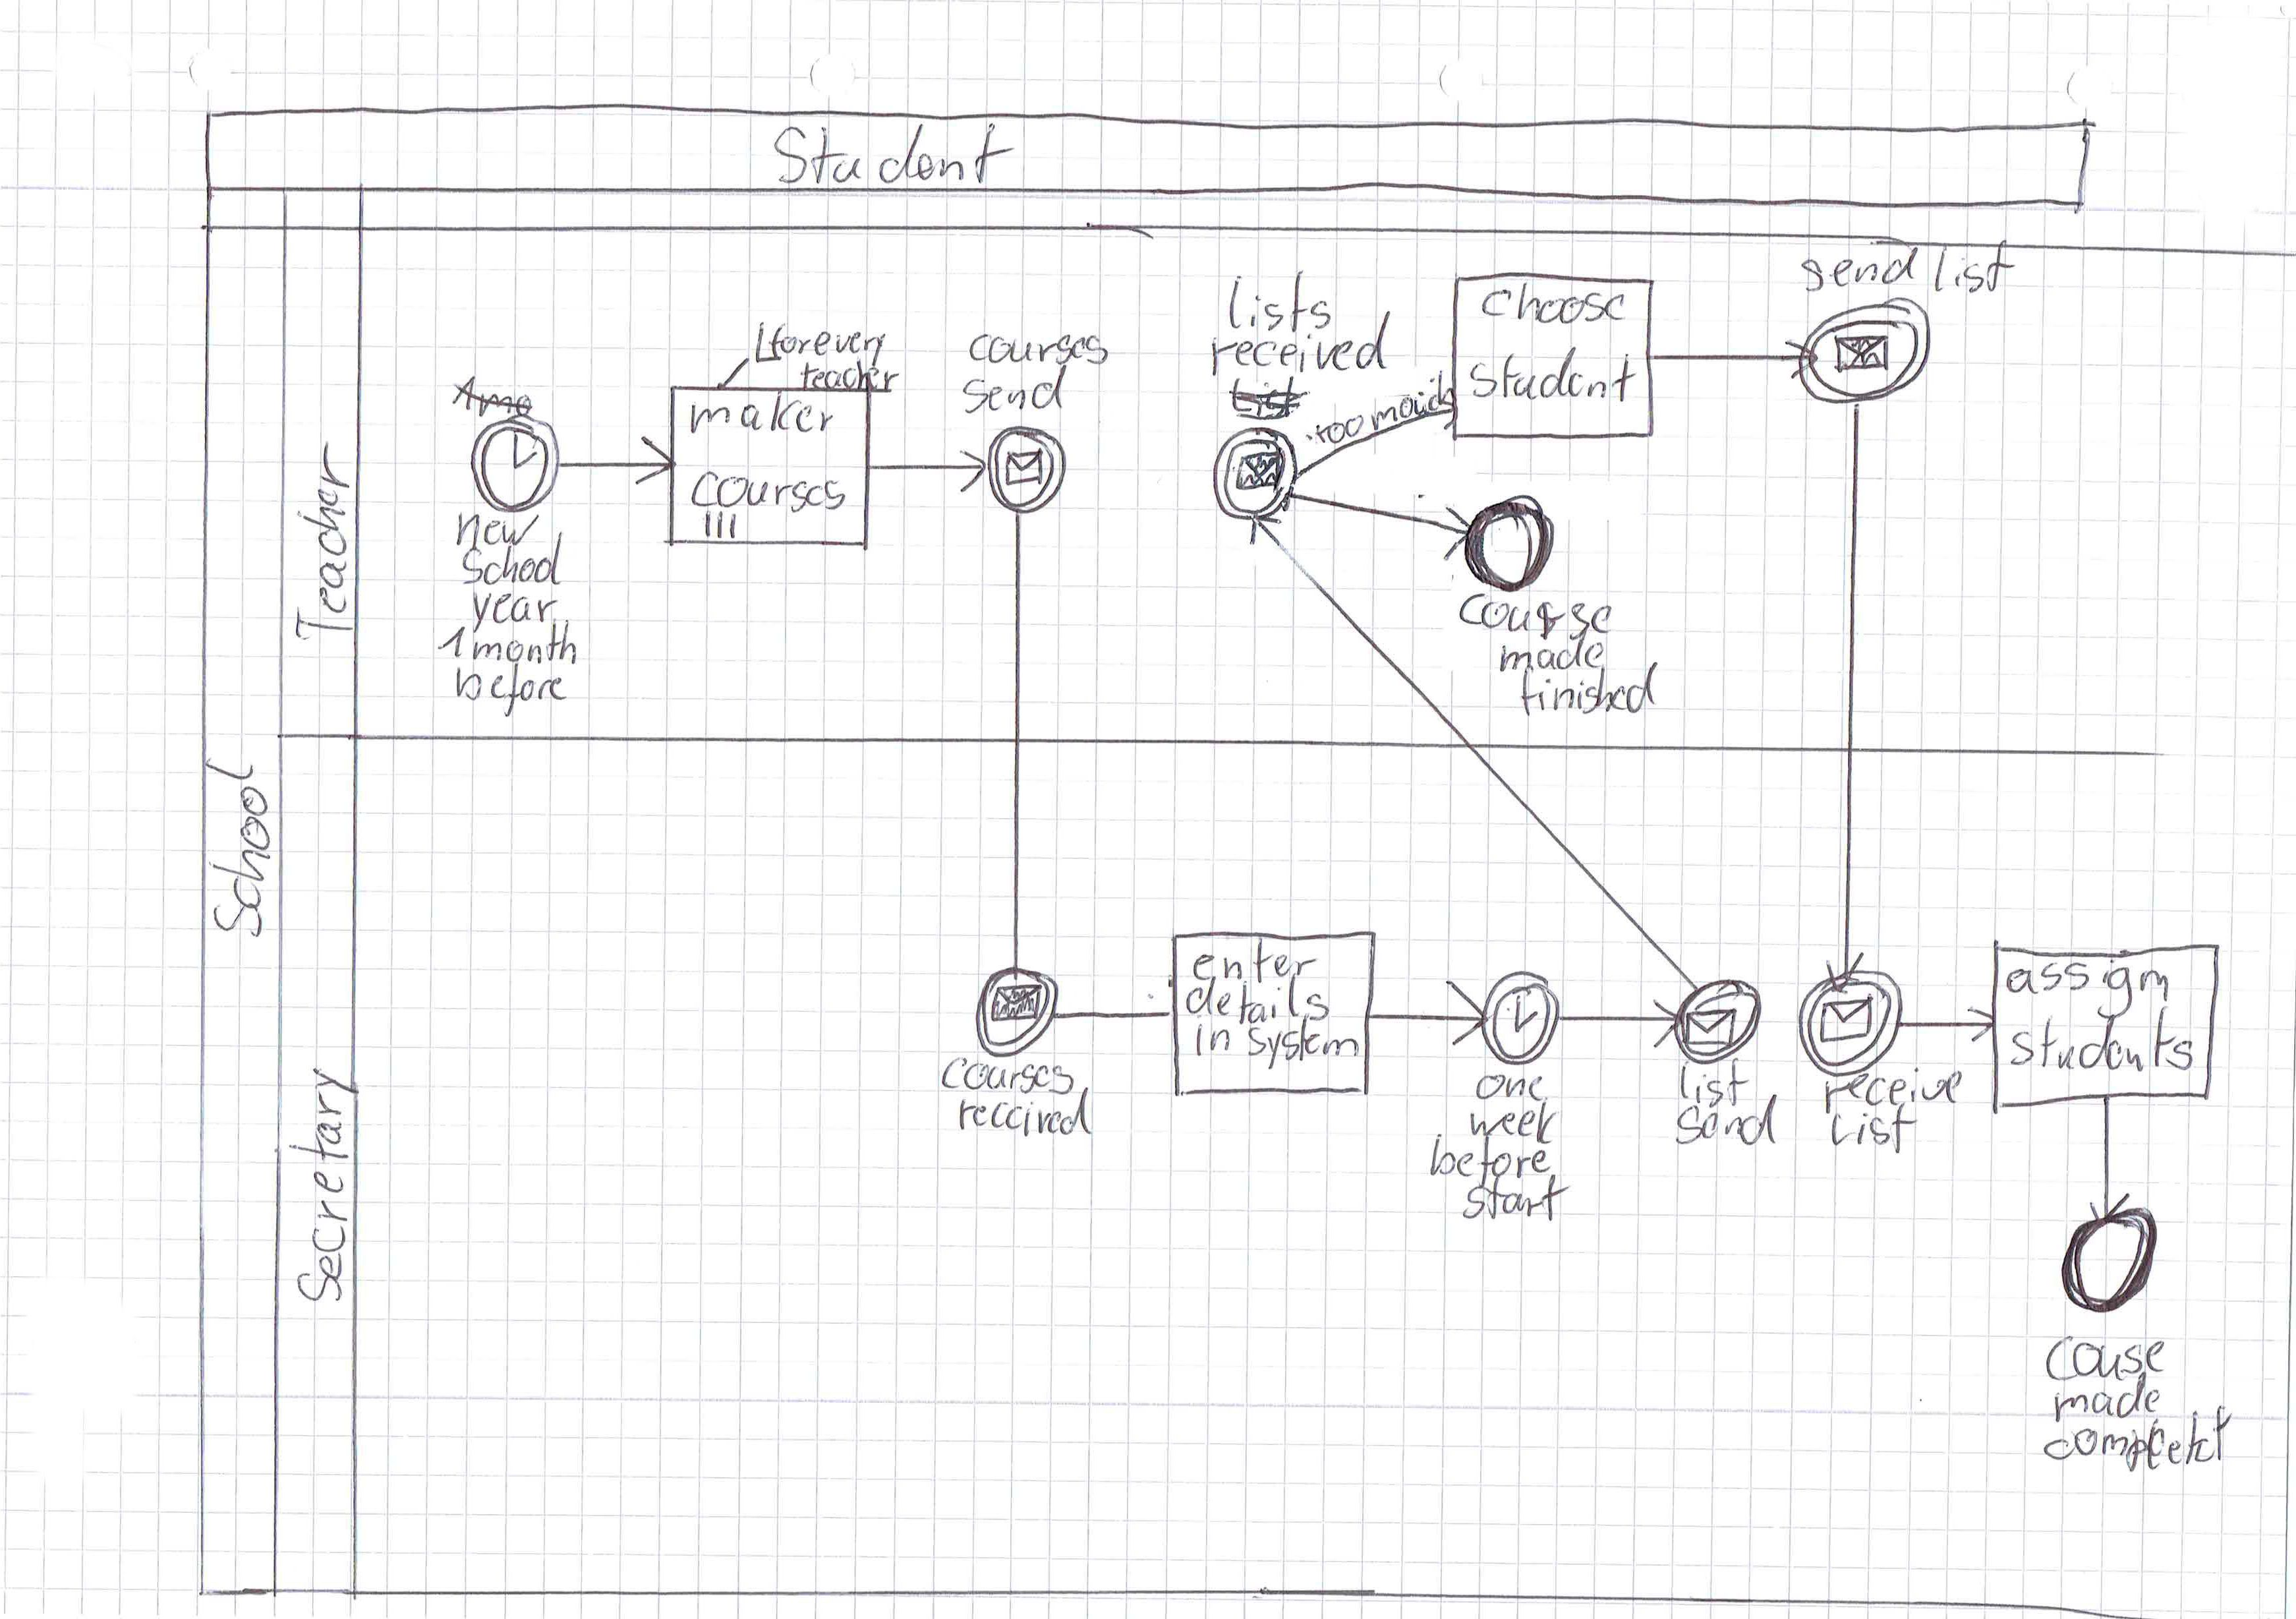1: (437, 624, 467, 661)
III: (701, 509, 738, 541)
School: (204, 757, 273, 939), (461, 532, 567, 587)
Secretary: (287, 1064, 361, 1303)
Student: (771, 123, 1016, 187)
Teacher: (294, 440, 357, 641)
assigm: (2005, 957, 2173, 1018)
before: (1428, 1133, 1551, 1189), (455, 661, 569, 719)
choose: (1479, 281, 1627, 325)
completet: (2041, 1427, 2232, 1485)
course: (1456, 592, 1615, 641)
courses: (690, 470, 846, 515), (940, 1055, 1077, 1098), (967, 332, 1111, 367)
couse: (2046, 1335, 2167, 1384)
details: (1184, 974, 1331, 1024)
enter: (1193, 937, 1320, 985)
every: (813, 330, 889, 366)
finished: (1518, 662, 1661, 718)
for: (768, 324, 813, 358)
in: (1192, 1014, 1233, 1059)
list: (1931, 239, 2017, 297), (1830, 1102, 1918, 1156), (1671, 1057, 1750, 1107)
lists: (1227, 268, 1333, 334)
made: (2052, 1370, 2162, 1426), (1498, 632, 1605, 674)
maker: (688, 390, 836, 435)
month: (472, 617, 579, 668)
mouch: (1362, 394, 1451, 459)
new: (455, 512, 540, 550)
one: (1474, 1074, 1548, 1103)
receive: (1823, 1073, 1961, 1115)
received: (1206, 320, 1403, 380), (955, 1087, 1094, 1140)
send: (1673, 1094, 1781, 1148), (1800, 246, 1920, 293), (961, 364, 1068, 416)
start: (1462, 1172, 1573, 1224)
student: (1468, 345, 1637, 403)
students: (2009, 1005, 2198, 1074)
system: (1247, 1013, 1358, 1072)
teacher: (795, 358, 899, 392)
too: (1309, 425, 1365, 452)
week: (1469, 1098, 1561, 1145)
year: (469, 591, 560, 635)
